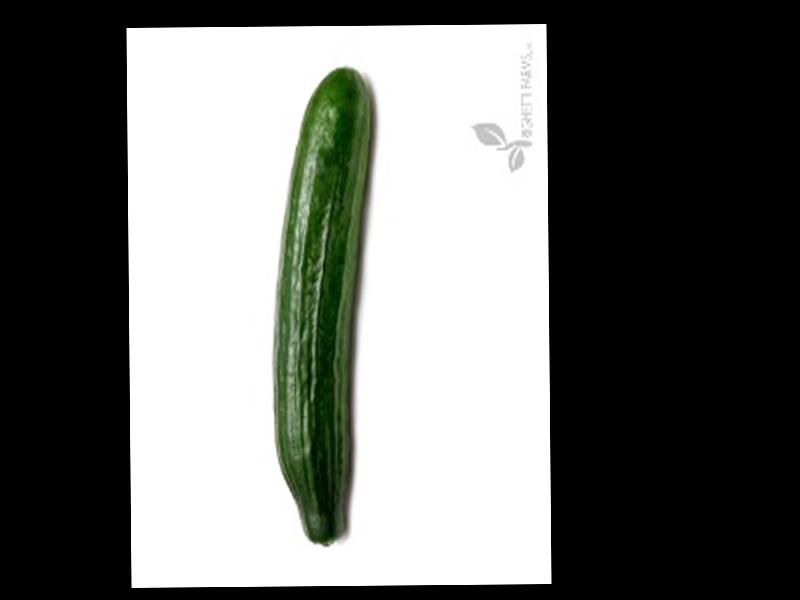Cucumber: (271, 64, 375, 546)
